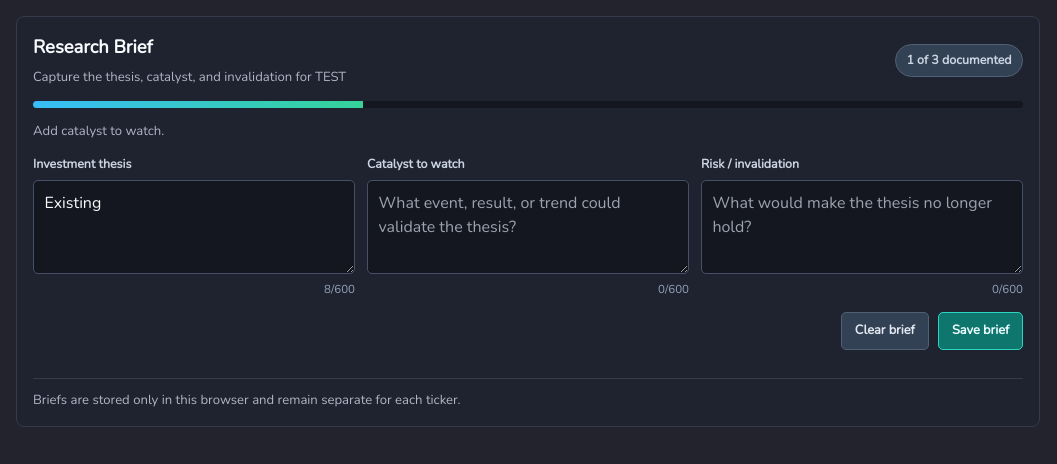
it: StockResearchBrief › clears a saved brief without affecting another ticker key
Click the button "Clear brief" at (885, 331), box left=841, top=312, right=928, bottom=350
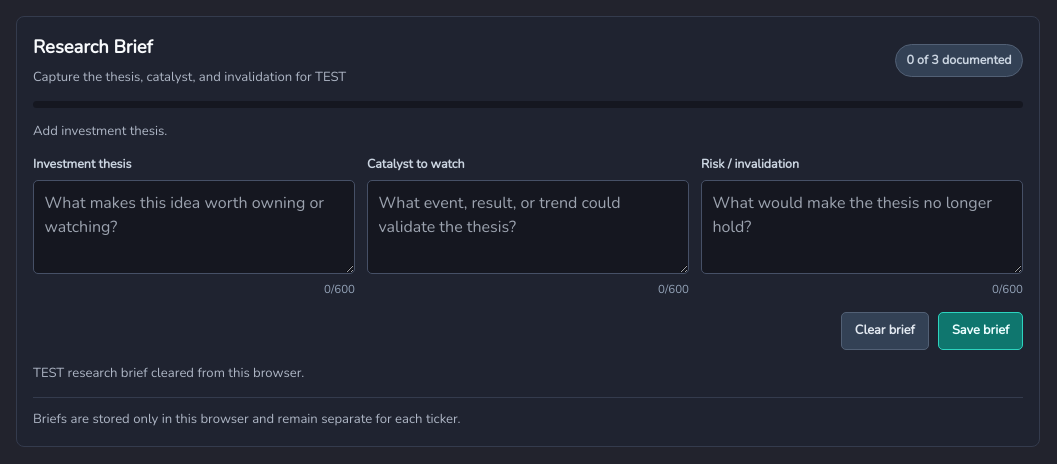
Now the text box labelled "Investment thesis" is empty, box left=33, top=180, right=355, bottom=274
